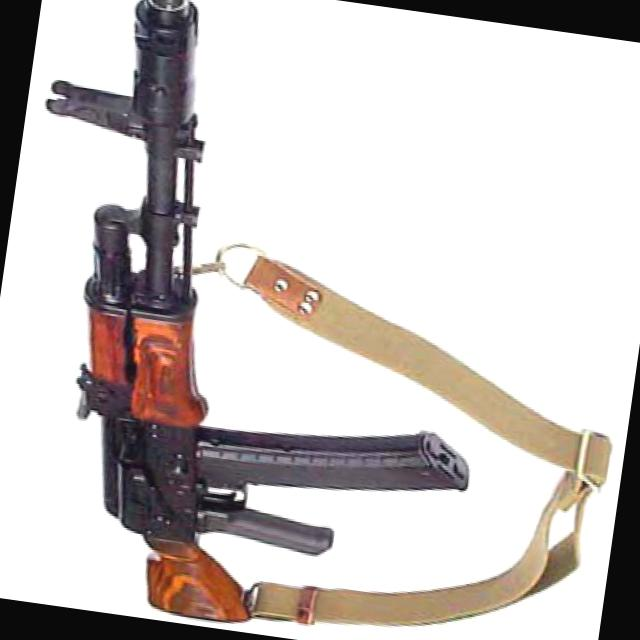long weapon: (0, 0, 533, 639)
